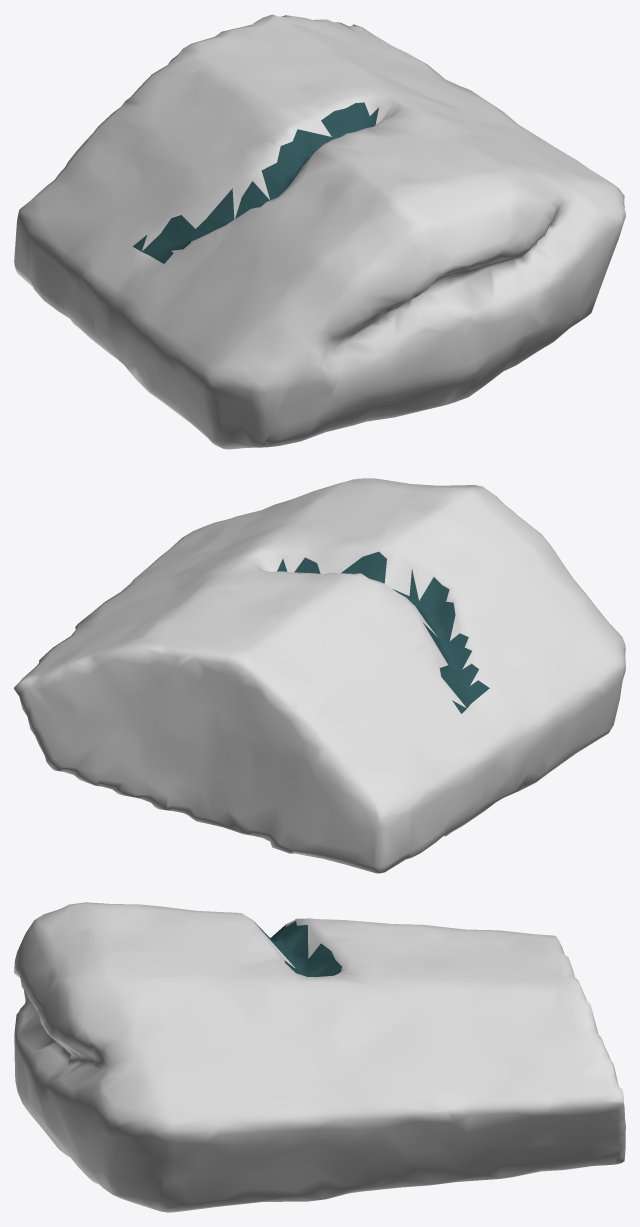
Rendered from res_rock_flank_a_lod0.glb.
3 renders of one model, top to bottom at view 1: azimuth 30°, elevation 25°; view 2: azimuth 150°, elevation 25°; view 3: azimuth 270°, elevation 25°, orthographic. The views are drawn at different scales.
Visible parts, largest first — view 1: H02 · cleaved flank.001; view 2: H02 · cleaved flank.001; view 3: H02 · cleaved flank.001.
Boxes of the visible parts, x1,y1,x2,y2 form: H02 · cleaved flank.001: [14, 14, 625, 449]; H02 · cleaved flank.001: [14, 478, 625, 873]; H02 · cleaved flank.001: [14, 902, 625, 1212].
Size of the model in its own units: 1.59 by 0.7601 by 1.82.
